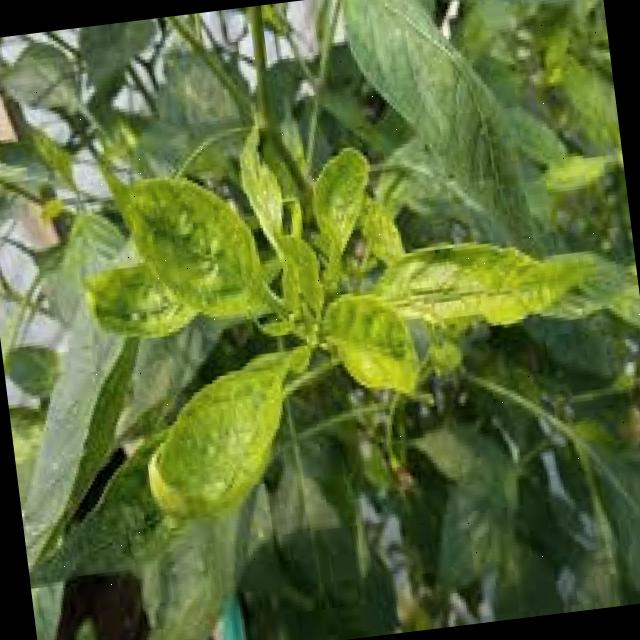yellow: (66, 34, 640, 543)
